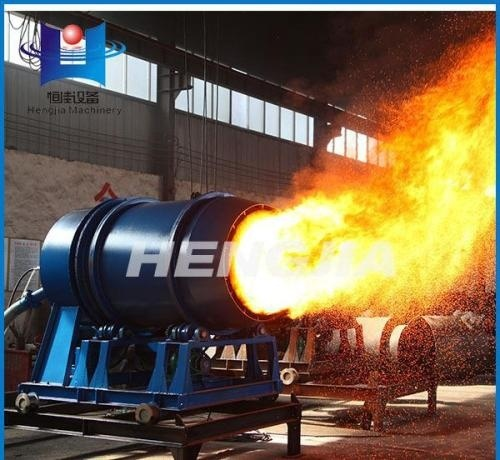fire: (223, 91, 491, 329)
